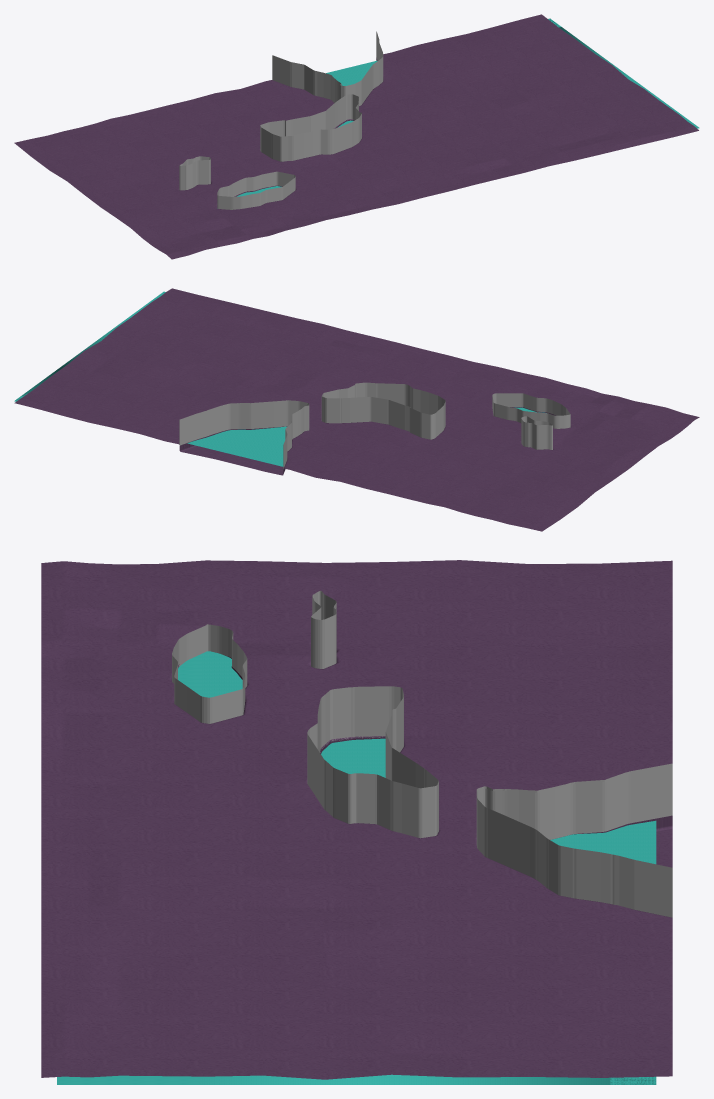
File: terrain.fbx
3 views of the same model, one above another, from view 1: azimuth 30°, elevation 25°; view 2: azimuth 150°, elevation 25°; view 3: azimuth 270°, elevation 25° (orthographic). The views are drawn at different scales.
Parts seen in each view (by area): view 1: Underworld:Plane011, Plane011, Underworld:Plane010; view 2: Underworld:Plane011, Plane011, Underworld:Plane010; view 3: Underworld:Plane011, Plane011, Underworld:Plane010.
Boxes of the visible parts, x1=… form: Underworld:Plane011: x1=14, y1=14, x2=698, y2=259; Plane011: x1=179, y1=31, x2=383, y2=209; Underworld:Plane010: x1=237, y1=18, x2=699, y2=196; Underworld:Plane011: x1=14, y1=288, x2=699, y2=531; Plane011: x1=179, y1=382, x2=570, y2=469; Underworld:Plane010: x1=14, y1=291, x2=546, y2=466; Underworld:Plane011: x1=41, y1=560, x2=672, y2=1079; Plane011: x1=172, y1=590, x2=672, y2=917; Underworld:Plane010: x1=57, y1=651, x2=656, y2=1084.
Bounding box in the file's own units: 11782 × 713 × 6055.
3 materials, 2 textured.
